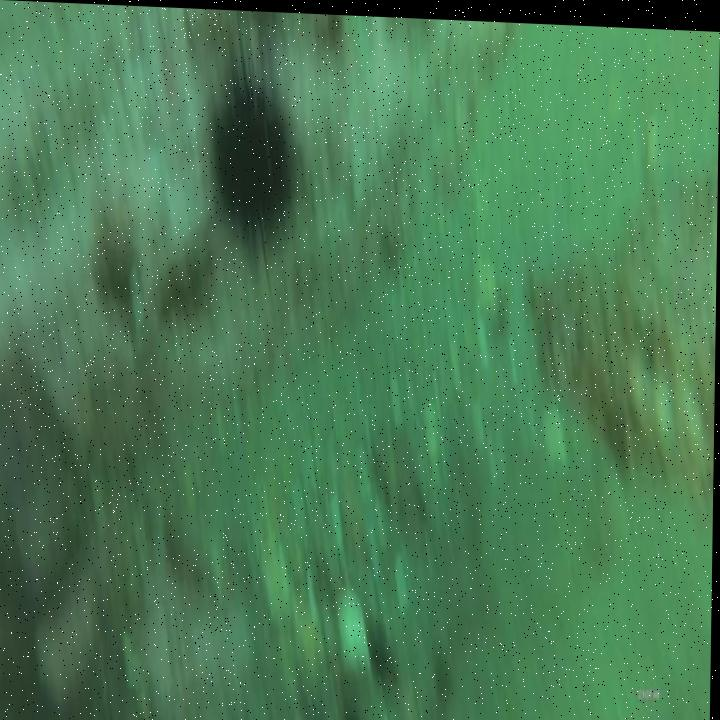echinus: (209, 73, 298, 263)
